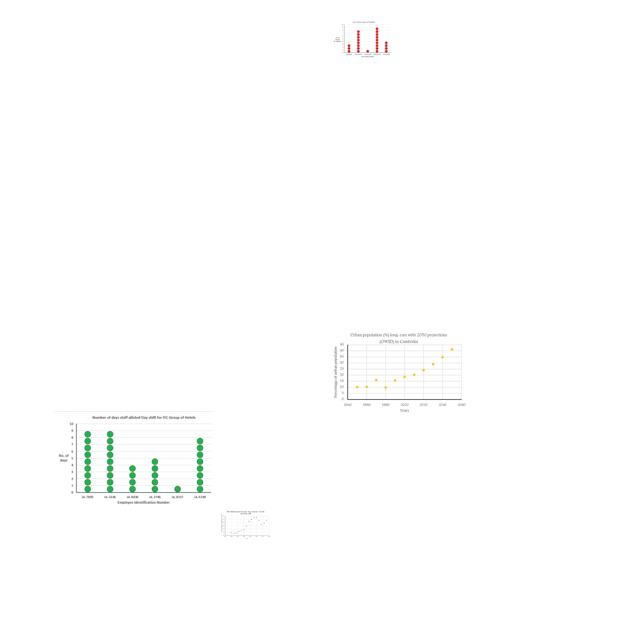Graph: (54, 411, 213, 508), (331, 330, 468, 413), (332, 20, 392, 59), (220, 510, 271, 540)
